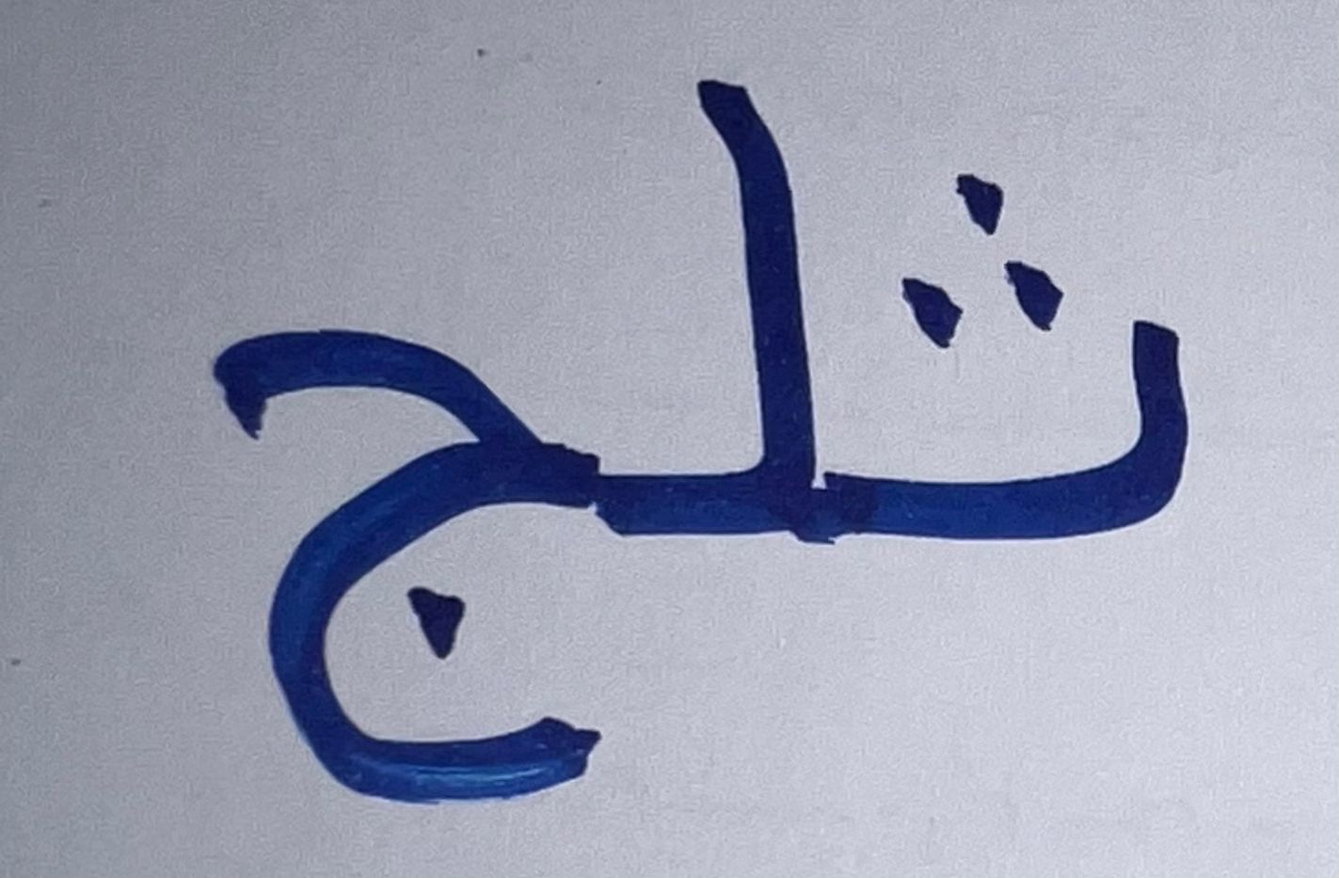jeem: (142, 265, 610, 826)
lam: (615, 50, 838, 592)
theh: (850, 124, 1218, 597)
